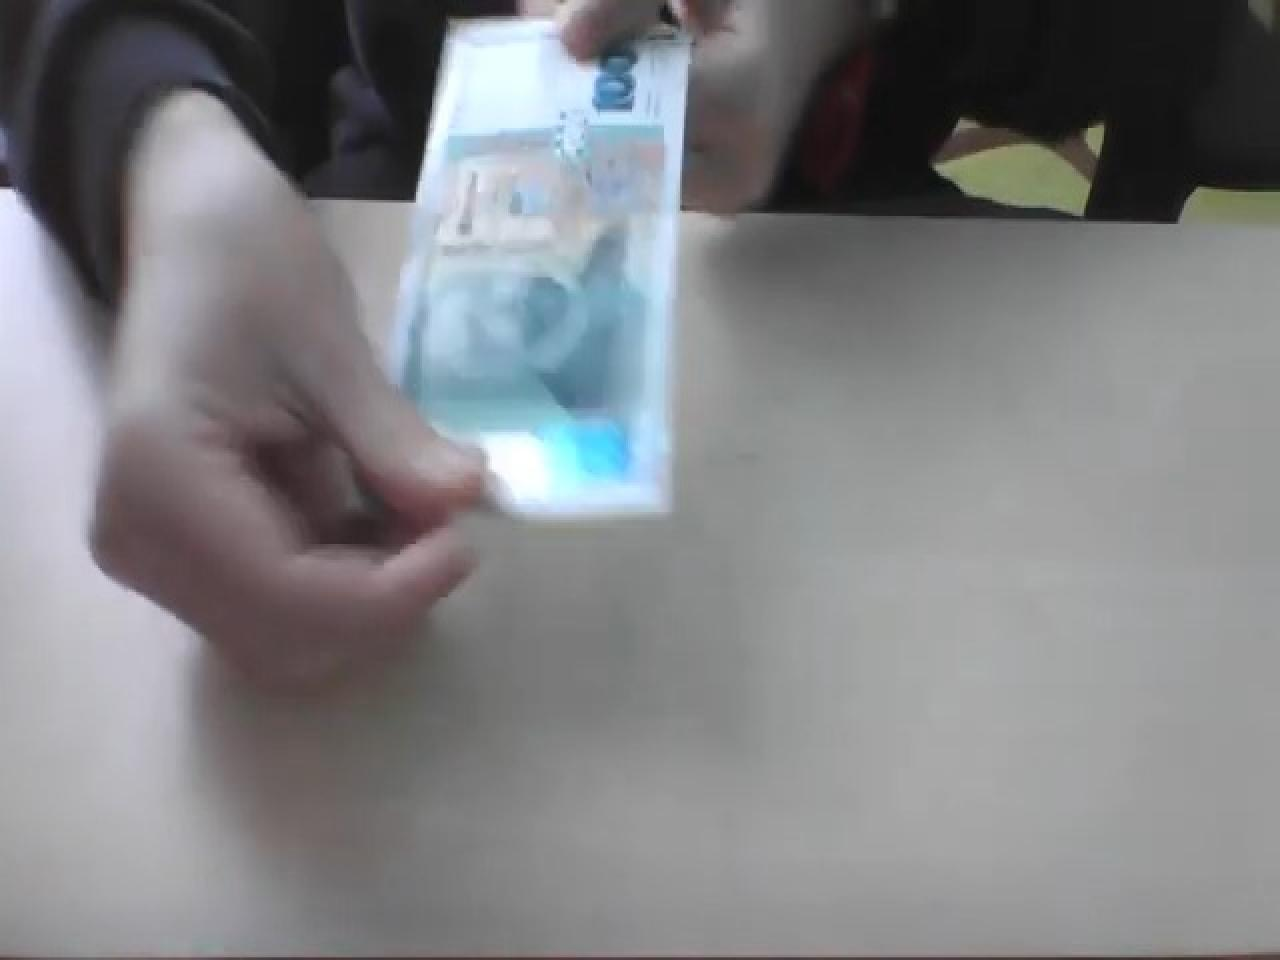100leva: (386, 13, 694, 527)
